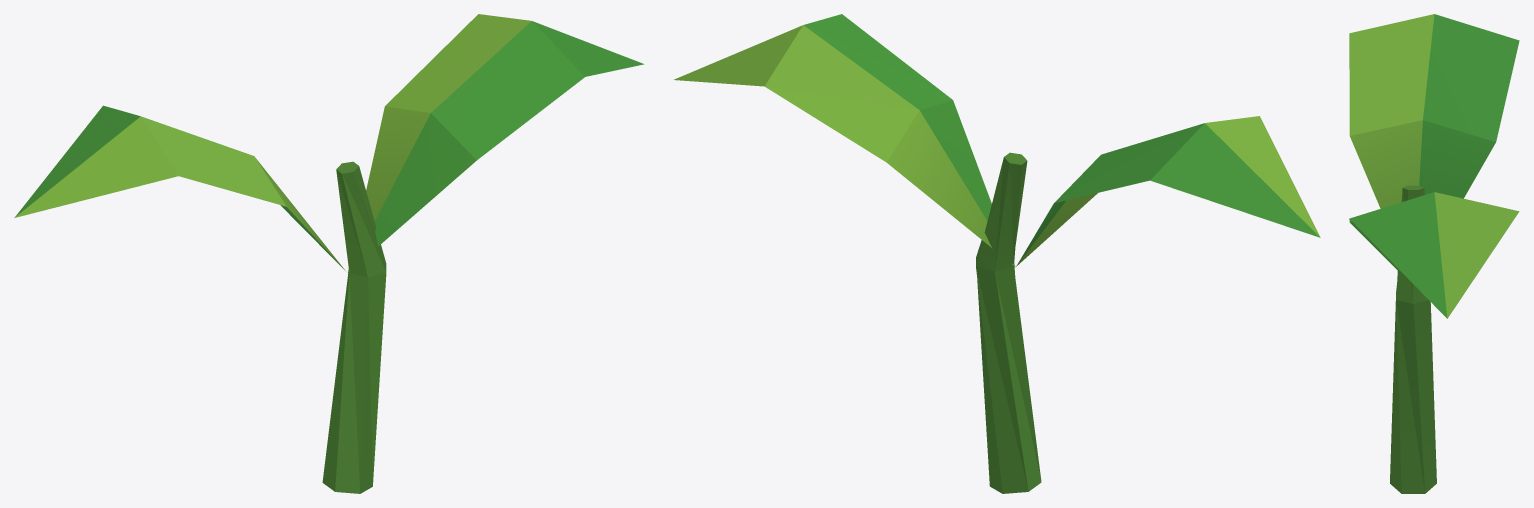
Rendered from Tomato_1.glb.
3 views of the same model, side by side, from view 1: azimuth 30°, elevation 25°; view 2: azimuth 150°, elevation 25°; view 3: azimuth 270°, elevation 25° (orthographic). The views are drawn at different scales.
Parts seen in each view (by area): view 1: Tomato_1; view 2: Tomato_1; view 3: Tomato_1.
Part boxes in pixels (x1,y1,x2,y2): Tomato_1: (14, 14, 644, 493); Tomato_1: (674, 14, 1320, 493); Tomato_1: (1349, 14, 1519, 493).
Bounding box in the file's own units: 0.3747 × 0.2327 × 0.0939.
